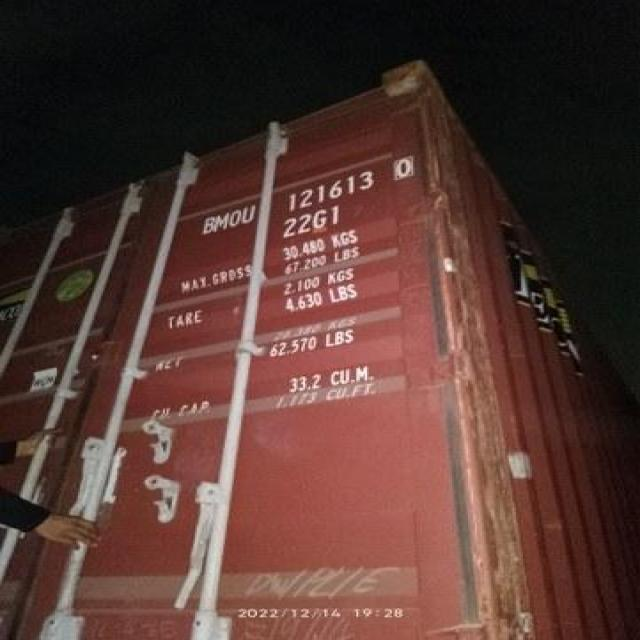container_number_h: (167, 150, 426, 239)
